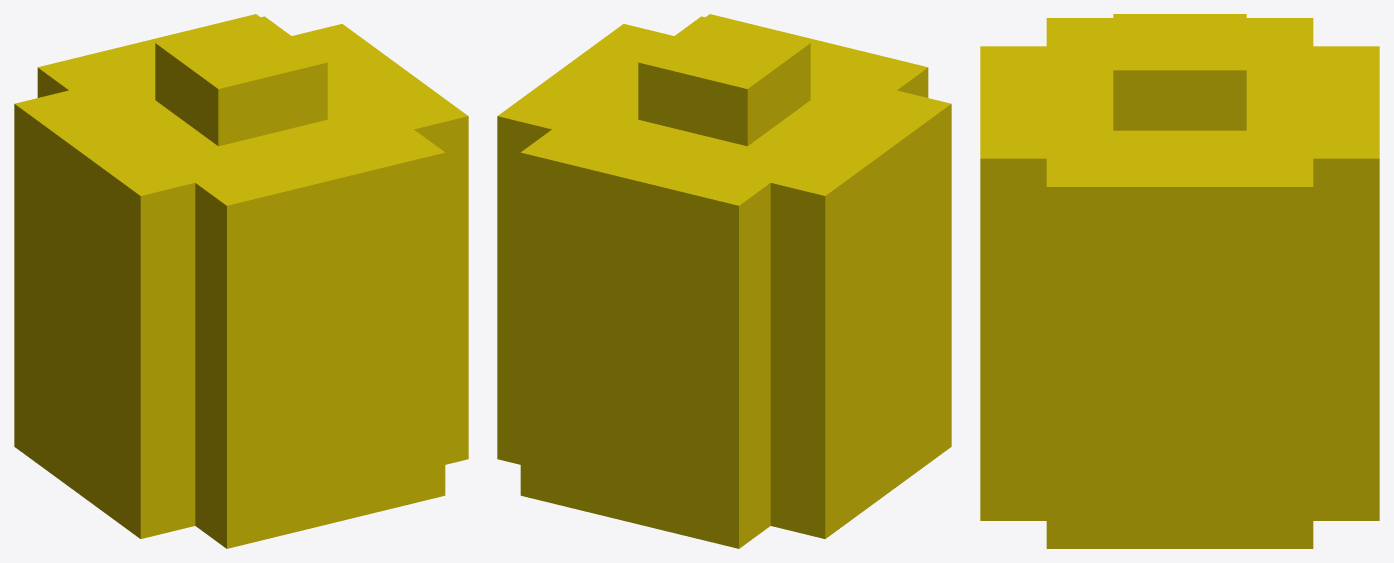
Rendered from push_button_voxel.gltf.
The picture shows the model from 3 angles, left to right: view 1: azimuth 30°, elevation 25°; view 2: azimuth 150°, elevation 25°; view 3: azimuth 270°, elevation 25°; orthographic projection. The views are drawn at different scales.
Parts seen in each view (by area): view 1: Layer.1; view 2: Layer.1; view 3: Layer.1.
Boxes of the visible parts, left/top/right/bottom form: Layer.1: left=14, top=14, right=468, bottom=548; Layer.1: left=497, top=14, right=951, bottom=548; Layer.1: left=980, top=14, right=1379, bottom=548.
Bounding box in the file's own units: 6 × 7 × 6.
1 material, 1 textured.
